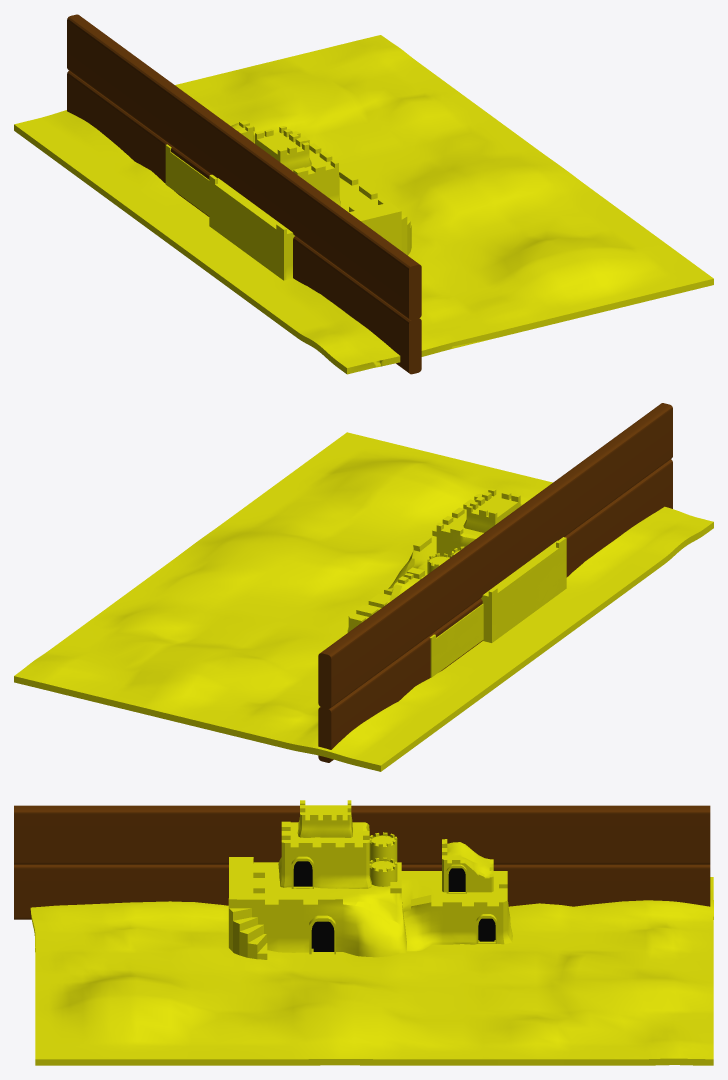
Rendered from SandCastlefull.fbx.
3 renders of one model, top to bottom at view 1: azimuth 30°, elevation 25°; view 2: azimuth 150°, elevation 25°; view 3: azimuth 270°, elevation 25°, orthographic.
Parts seen in each view (by area): view 1: terrain, TopPlank, BottomPlank, pCube3, pCube7, pCube5, pCube4, pCube16; view 2: terrain, TopPlank, BottomPlank, pCube3, pCube7, pCube5, pCube4; view 3: terrain, TopPlank, BottomPlank, pCube3, pCube7, pCube4, pCube5, pCube20, pCube16, Door, pCylinder3, pCylinder4 (+5 smaller).
Boxes of the visible parts, <box> form: terrain: <box>14,35,713,374</box>; TopPlank: <box>67,14,421,320</box>; BottomPlank: <box>67,70,421,374</box>; pCube3: <box>209,170,389,280</box>; pCube7: <box>165,126,264,215</box>; pCube5: <box>255,126,311,170</box>; pCube4: <box>292,131,340,206</box>; pCube16: <box>349,202,401,250</box>; terrain: <box>14,432,713,771</box>; TopPlank: <box>318,403,672,708</box>; BottomPlank: <box>318,459,672,762</box>; pCube3: <box>388,516,566,642</box>; pCube7: <box>348,588,483,677</box>; pCube5: <box>463,488,520,532</box>; pCube4: <box>436,493,521,557</box>; terrain: <box>30,877,713,1065</box>; TopPlank: <box>14,805,710,864</box>; BottomPlank: <box>14,864,710,919</box>; pCube3: <box>250,862,406,957</box>; pCube7: <box>401,871,512,951</box>; pCube4: <box>278,821,371,888</box>; pCube5: <box>297,800,352,837</box>; pCube20: <box>442,839,493,892</box>; pCube16: <box>228,857,253,947</box>; Door: <box>309,915,335,954</box>; pCylinder3: <box>369,832,397,862</box>; pCylinder4: <box>369,857,397,886</box>.
Bounding box in the file's own units: 42.71 × 13.09 × 69.15.
